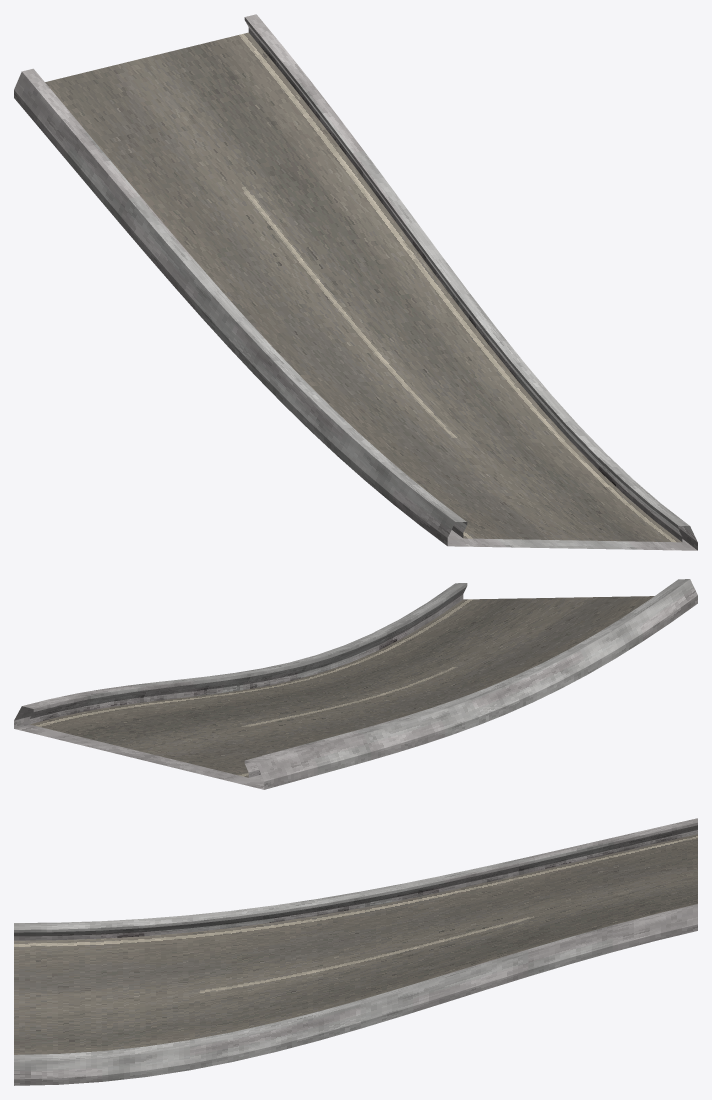
File: straight3.glb
3 renders of one model, top to bottom at view 1: azimuth 30°, elevation 25°; view 2: azimuth 150°, elevation 25°; view 3: azimuth 270°, elevation 25°, orthographic. The views are drawn at different scales.
Visible parts, largest first — view 1: road-Straight-HalfBankedRight-BiSlopeUp-Up3-Center-Size3; view 2: road-Straight-HalfBankedRight-BiSlopeUp-Up3-Center-Size3; view 3: road-Straight-HalfBankedRight-BiSlopeUp-Up3-Center-Size3.
Part boxes in pixels (x1=…): road-Straight-HalfBankedRight-BiSlopeUp-Up3-Center-Size3: x1=14, y1=14, x2=697, y2=550; road-Straight-HalfBankedRight-BiSlopeUp-Up3-Center-Size3: x1=14, y1=579, x2=697, y2=789; road-Straight-HalfBankedRight-BiSlopeUp-Up3-Center-Size3: x1=14, y1=818, x2=697, y2=1085.
Bounding box in the file's own units: 1 × 0.8437 × 3.
Materials: 2 (2 with a texture image).
